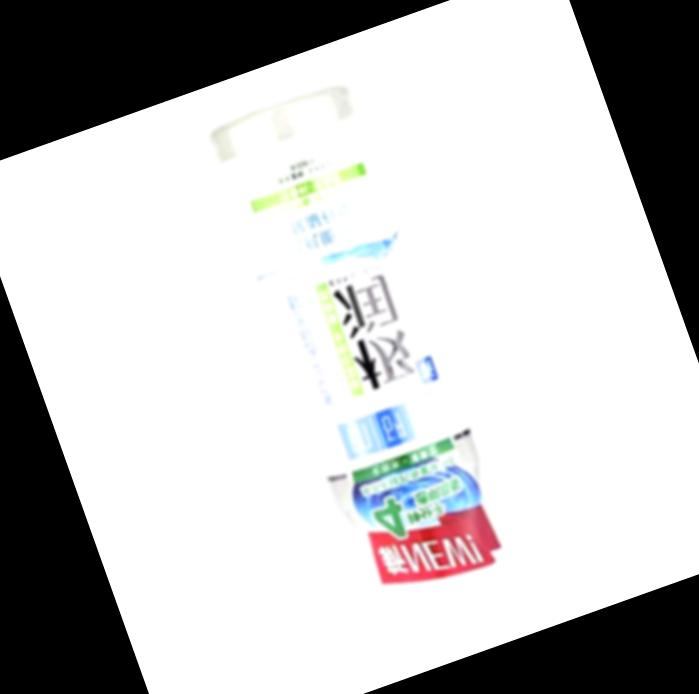cosmetic: (205, 89, 520, 631)
